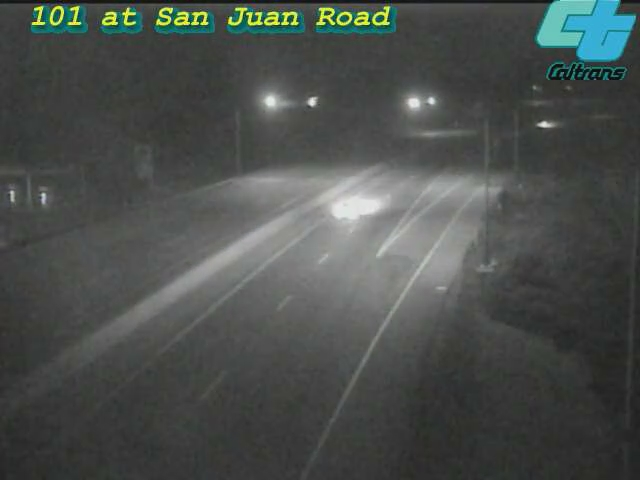vehicle: (307, 172, 387, 252), (518, 101, 568, 151)
